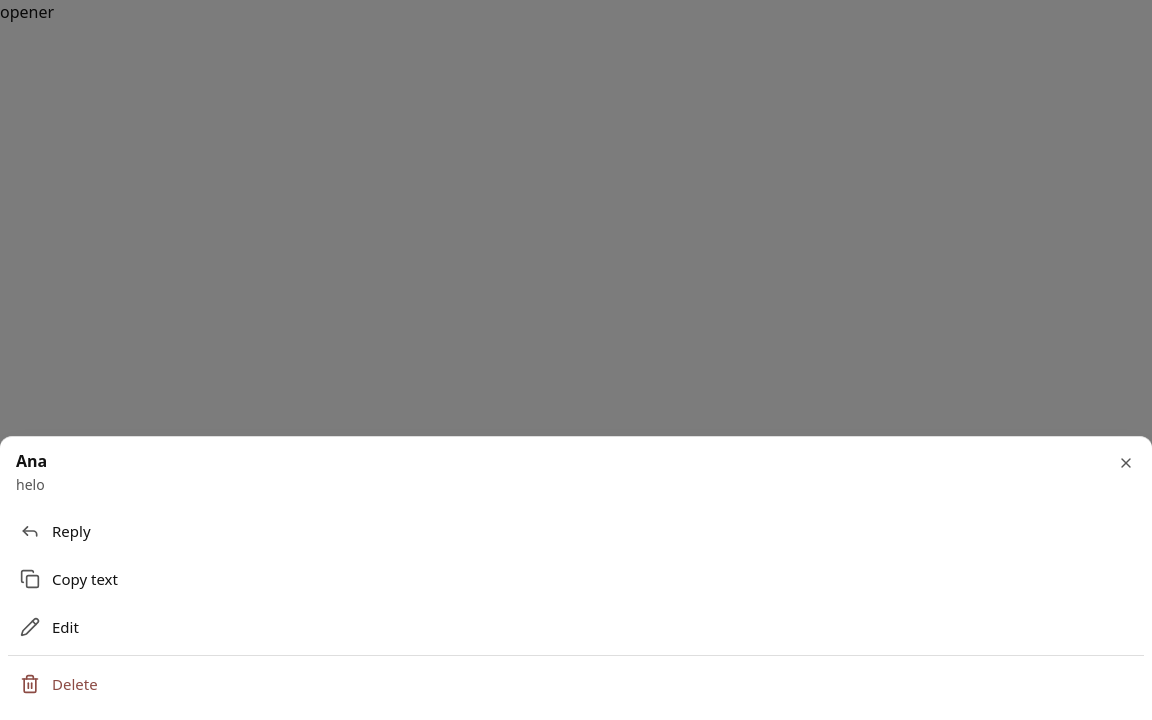
Scenario: the menu (EDT-10, DLT-09) › on a touch device they are buttons of the sheet, and Edit hands over the message too
The width and height of the screenshot is (1152, 720).
Expected: the button "Reply" is shown, x1=8 y1=507 x2=1144 y2=555
Expected: the button "Copy text" is shown, x1=8 y1=555 x2=1144 y2=603
Click the button "Edit" at (30, 627), box x1=8 y1=603 x2=1144 y2=651
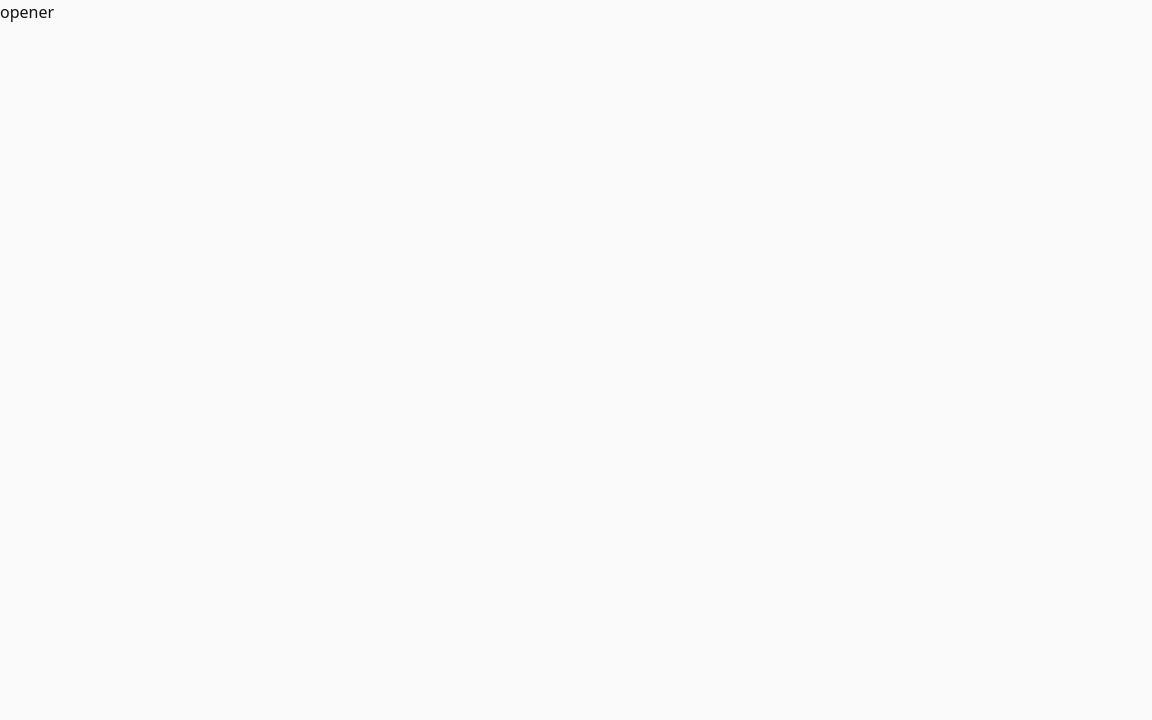
Now the heading "Ana" is gone
